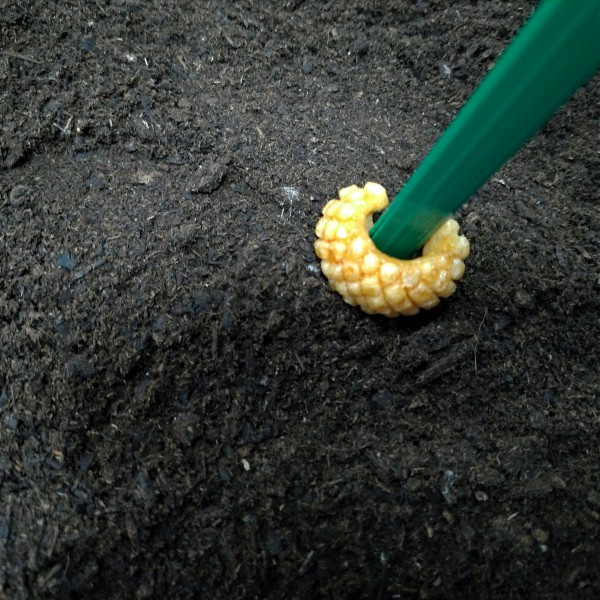eggs: (299, 178, 476, 320)
